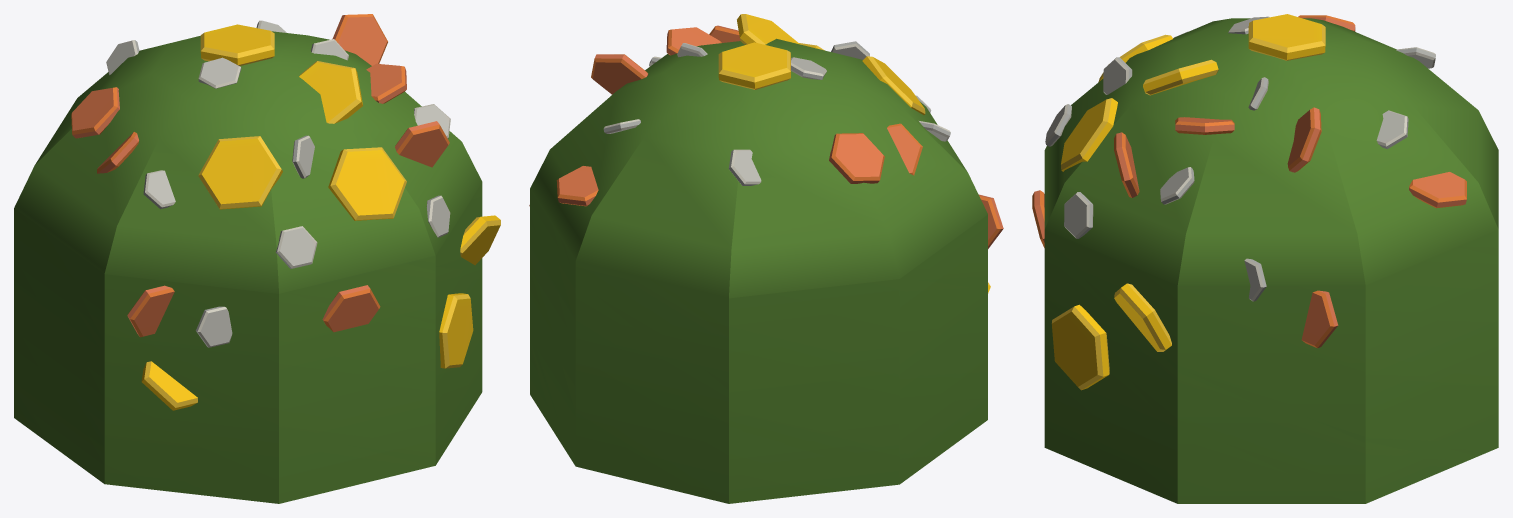
File: MoneyHalf_Mesh.fbx
3 views of the same model, side by side, from view 1: azimuth 30°, elevation 25°; view 2: azimuth 150°, elevation 25°; view 3: azimuth 270°, elevation 25° (orthographic). The views are drawn at different scales.
Parts seen in each view (by area): view 1: MoneyHalf_Mesh; view 2: MoneyHalf_Mesh; view 3: MoneyHalf_Mesh.
Part boxes in pixels (x1,y1,x2,y2): MoneyHalf_Mesh: (14,14,500,503); MoneyHalf_Mesh: (529,14,1003,503); MoneyHalf_Mesh: (1032,14,1498,503).
Size of the model in its own units: 16.24 by 14.31 by 16.02.
1 material, 1 textured.
